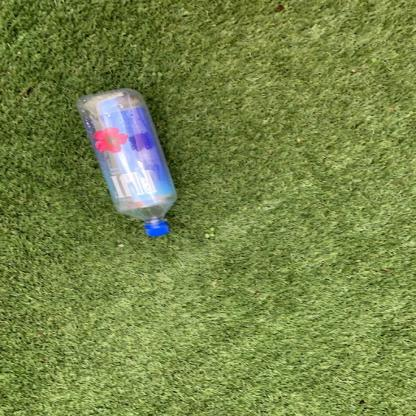trash: (76, 86, 180, 240)
